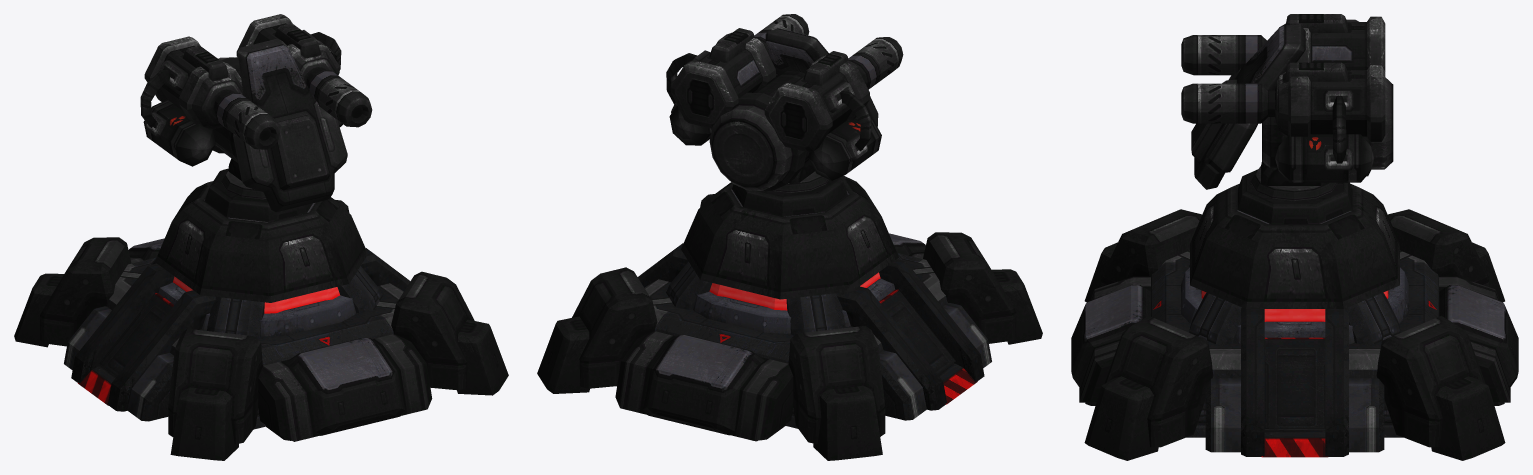
Rendered from Bunker.obj.
The picture shows the model from 3 angles, left to right: view 1: azimuth 30°, elevation 25°; view 2: azimuth 150°, elevation 25°; view 3: azimuth 270°, elevation 25°; orthographic projection. The views are drawn at different scales.
Visible parts, largest first — view 1: Shadow_Bunker.m3.002; view 2: Shadow_Bunker.m3.002; view 3: Shadow_Bunker.m3.002.
Boxes of the visible parts, <box> form: Shadow_Bunker.m3.002: <box>14,14,508,460</box>; Shadow_Bunker.m3.002: <box>537,14,1042,460</box>; Shadow_Bunker.m3.002: <box>1071,14,1518,460</box>.
Bounding box in the file's own units: 2.56 × 2.27 × 2.73.
Materials: 3 (3 with a texture image).
